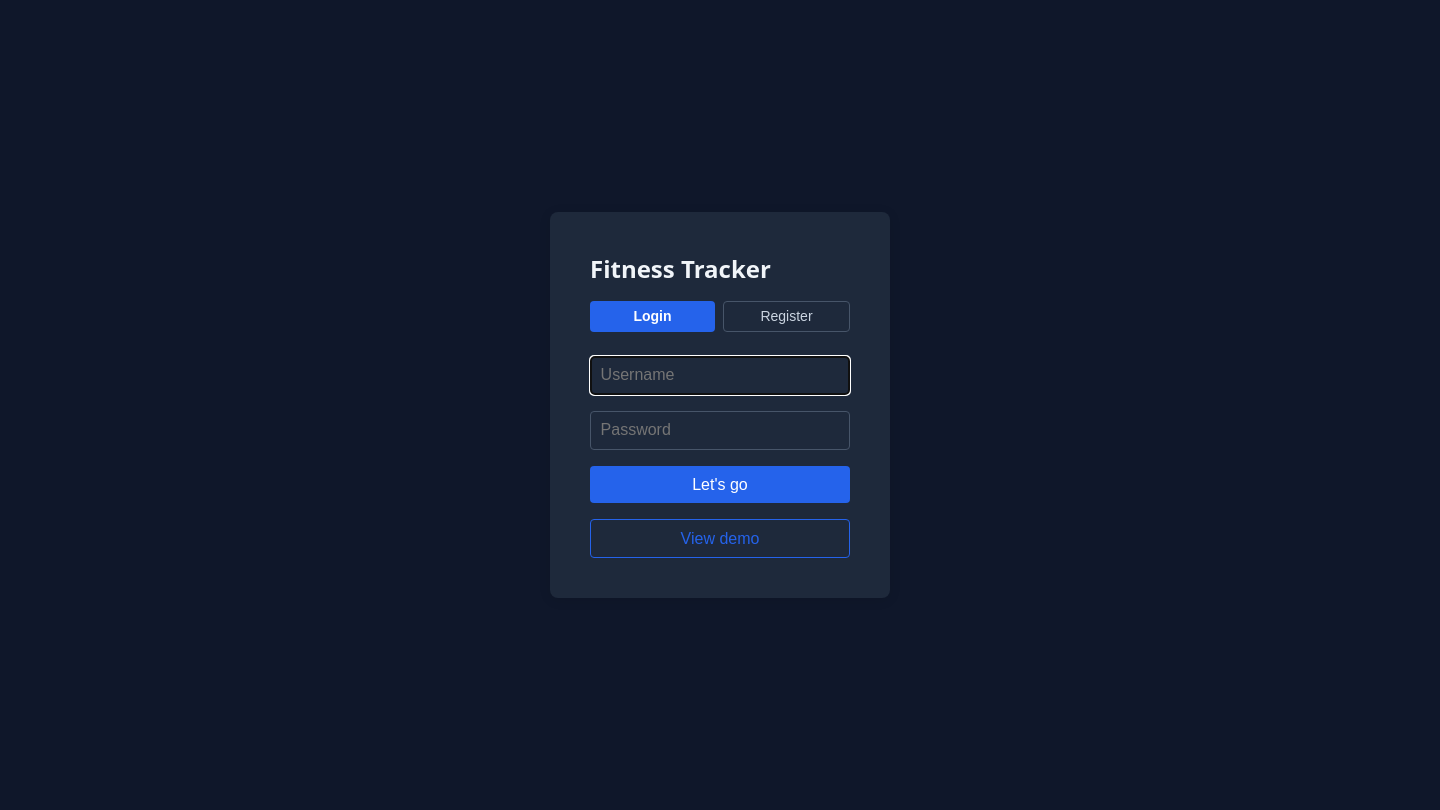
Test case: UserPicker — register › shows a taken-username message on 409
The width and height of the screenshot is (1440, 810).
Click the button "Register": {"x": 786, "y": 316} [723,301,850,332]
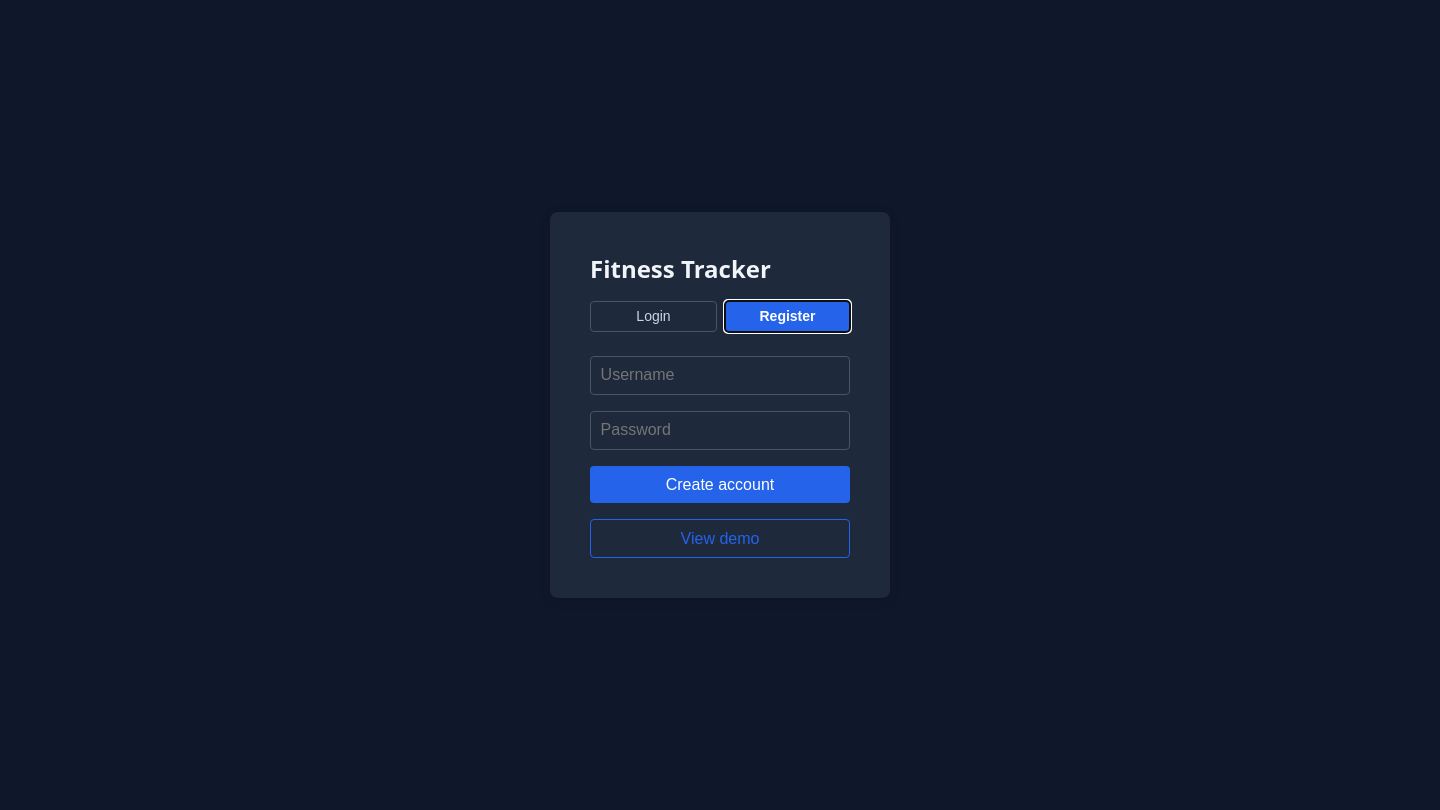
In the field with placeholder "Username": {"x": 720, "y": 375} [590,356,850,395], type "alice"
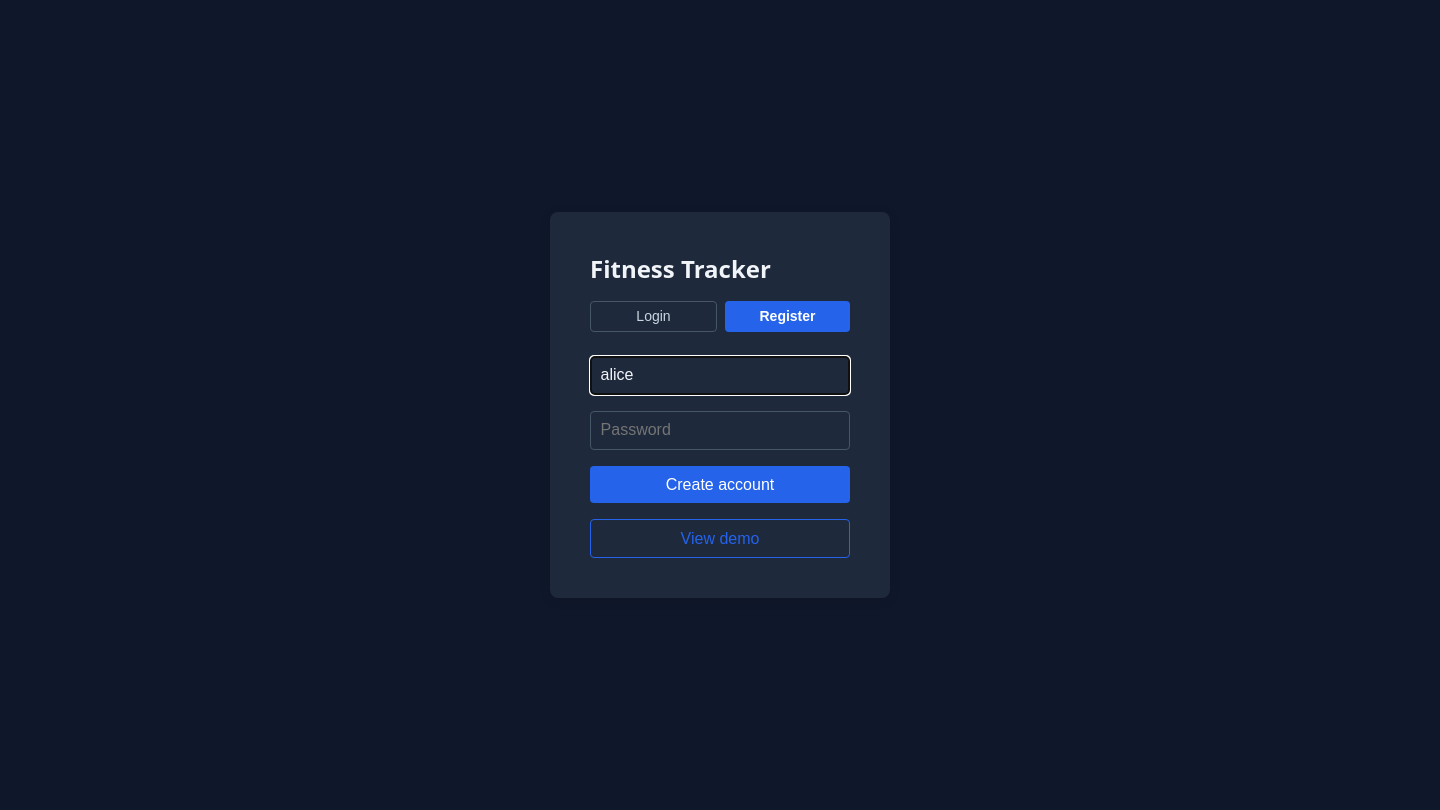
In the password field with placeholder "Password": {"x": 720, "y": 430} [590,411,850,450], type "password123"
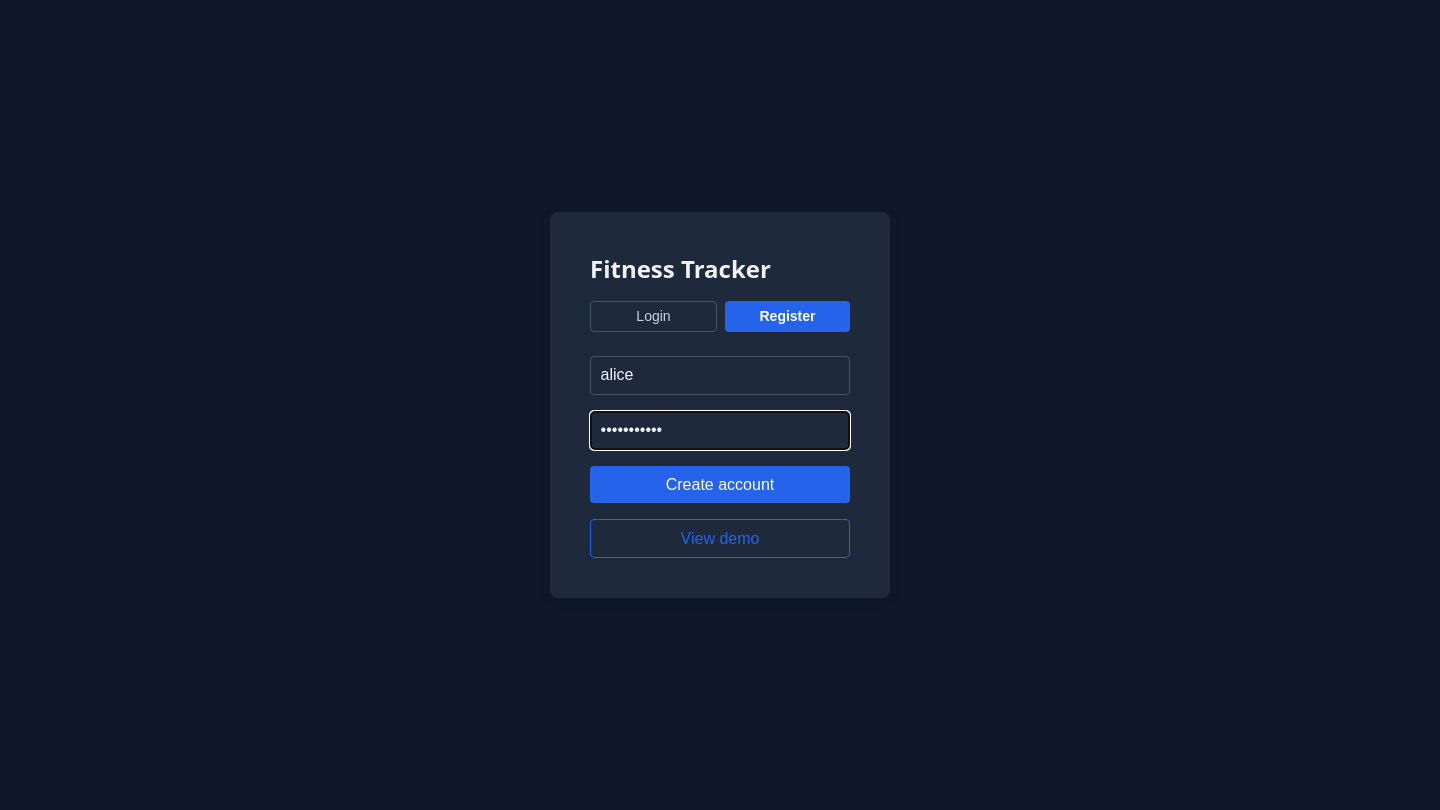
Click the button "Create account": {"x": 720, "y": 484} [590,466,850,503]
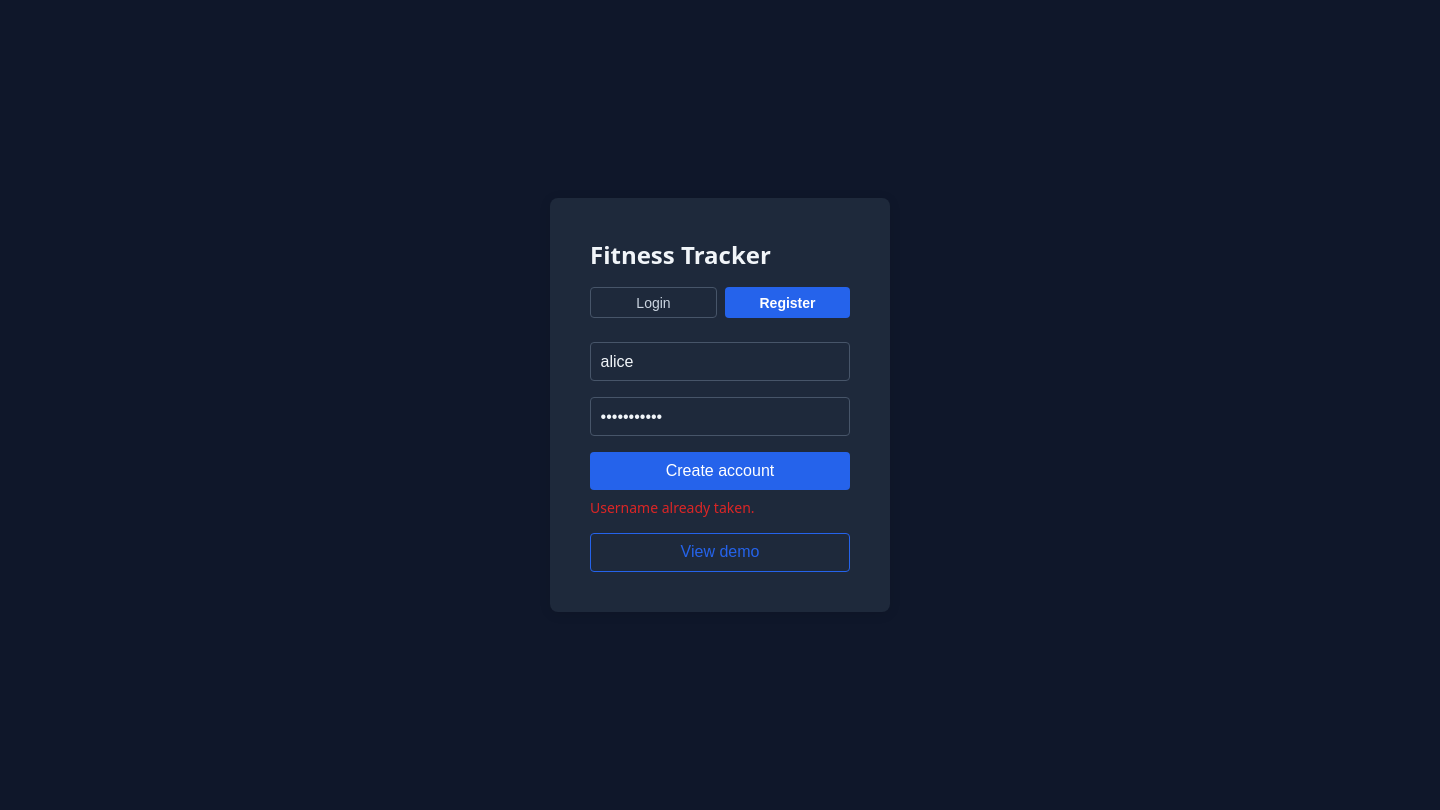
Now the text "Username already taken." is shown, box [590,498,754,517]
